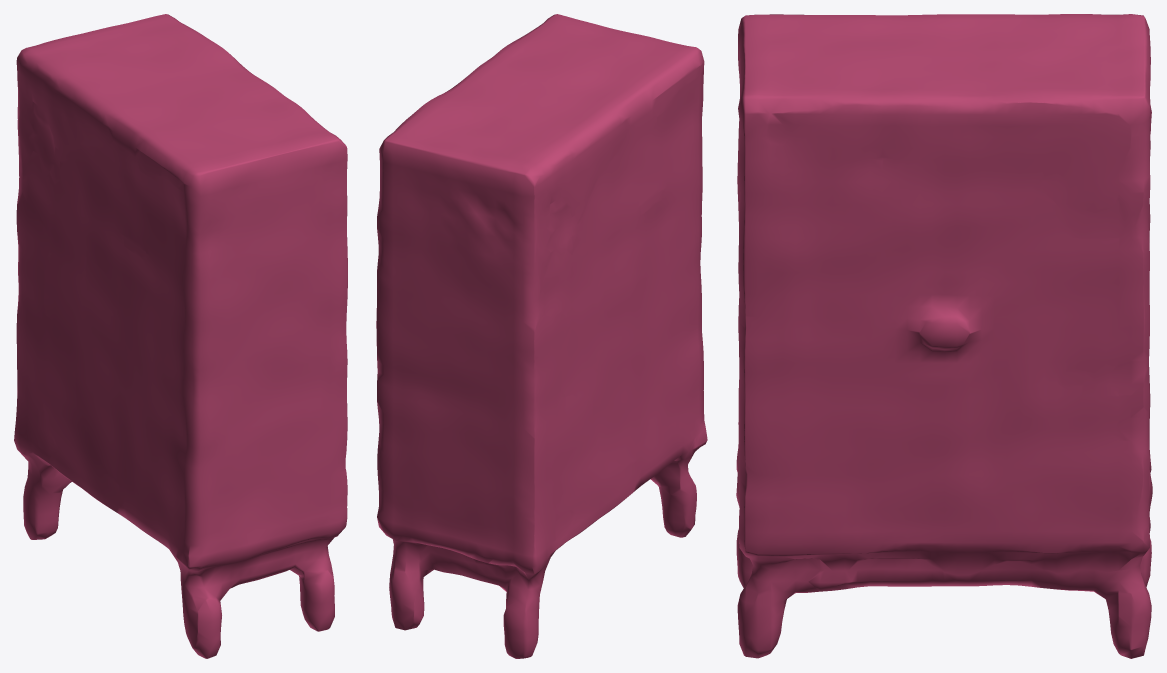
The model's file is wardrobe_13_5.obj.
The picture shows the model from 3 angles, left to right: view 1: azimuth 30°, elevation 25°; view 2: azimuth 150°, elevation 25°; view 3: azimuth 270°, elevation 25°; orthographic projection. The views are drawn at different scales.
Size of the model in its own units: 0.2967 by 0.7929 by 0.523.
